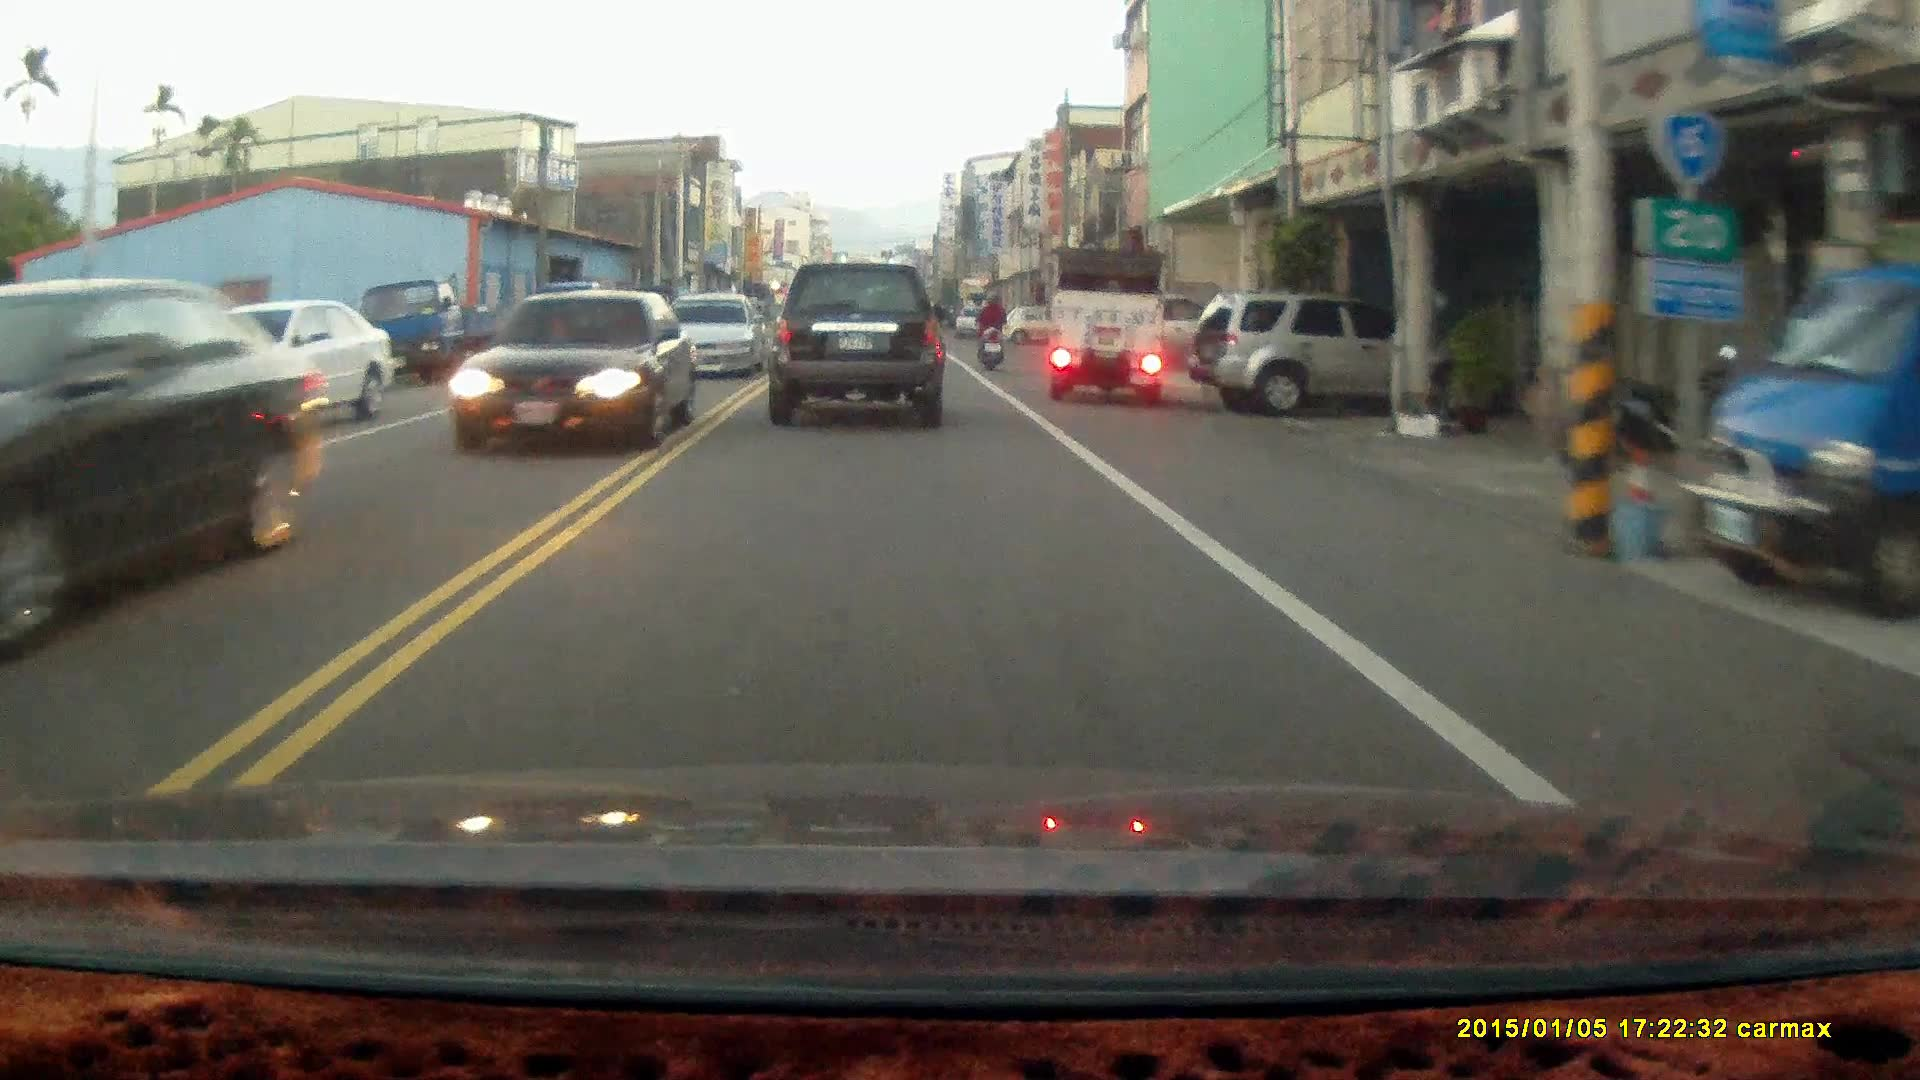rider: (971, 284, 1008, 370)
vehicle: (1, 277, 327, 665), (1684, 221, 1920, 618), (136, 297, 403, 457), (451, 284, 693, 454), (767, 262, 948, 428), (1193, 289, 1410, 415), (1048, 244, 1168, 398), (667, 292, 765, 378)
